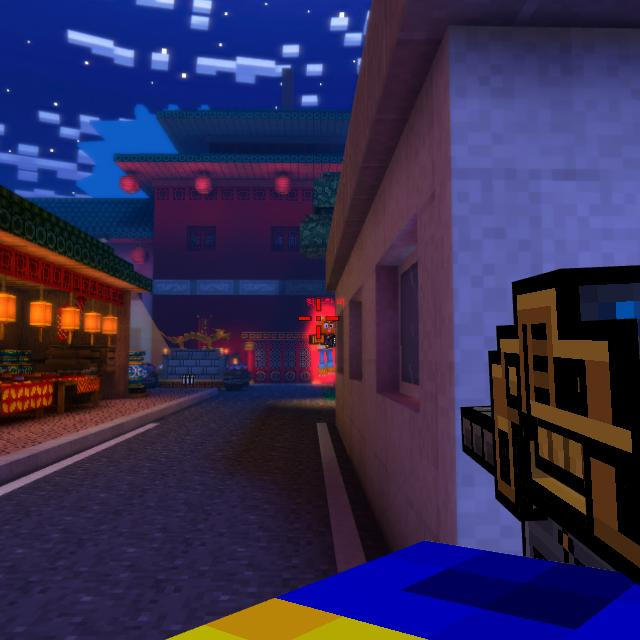Enemy: (308, 316, 336, 376)
